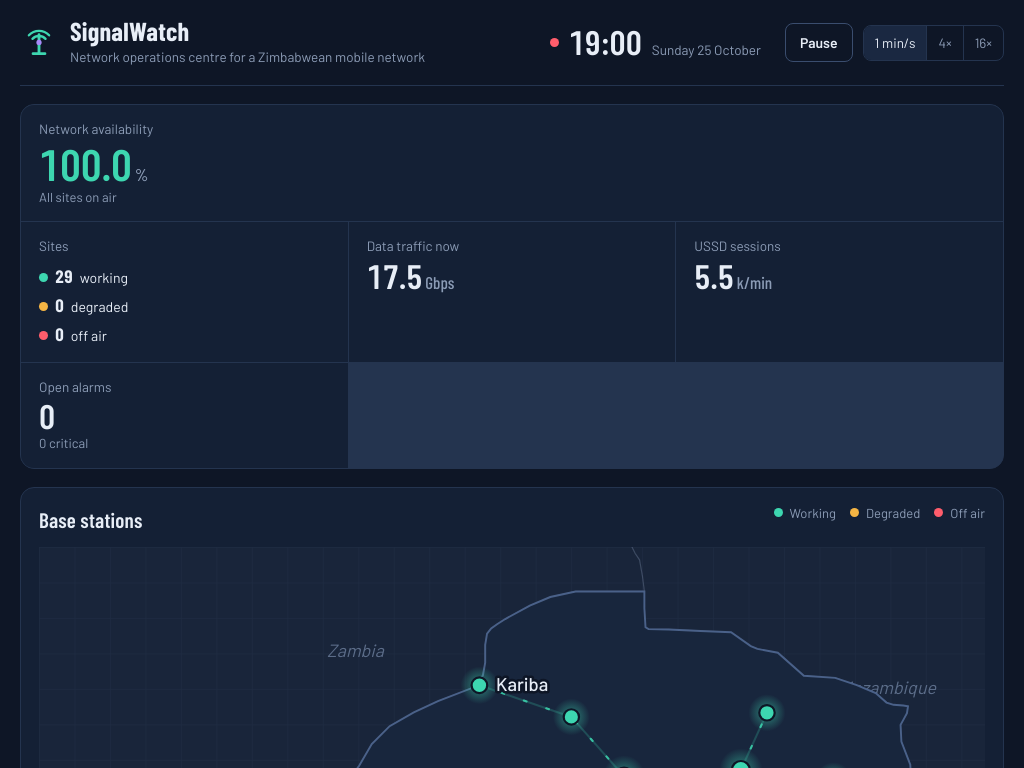
SignalWatch dashboard › lets the operator pause the live feed
This screenshot has width=1024, height=768.
Step 1. Click the button "Pause" → (819, 43), box [785, 23, 853, 62]
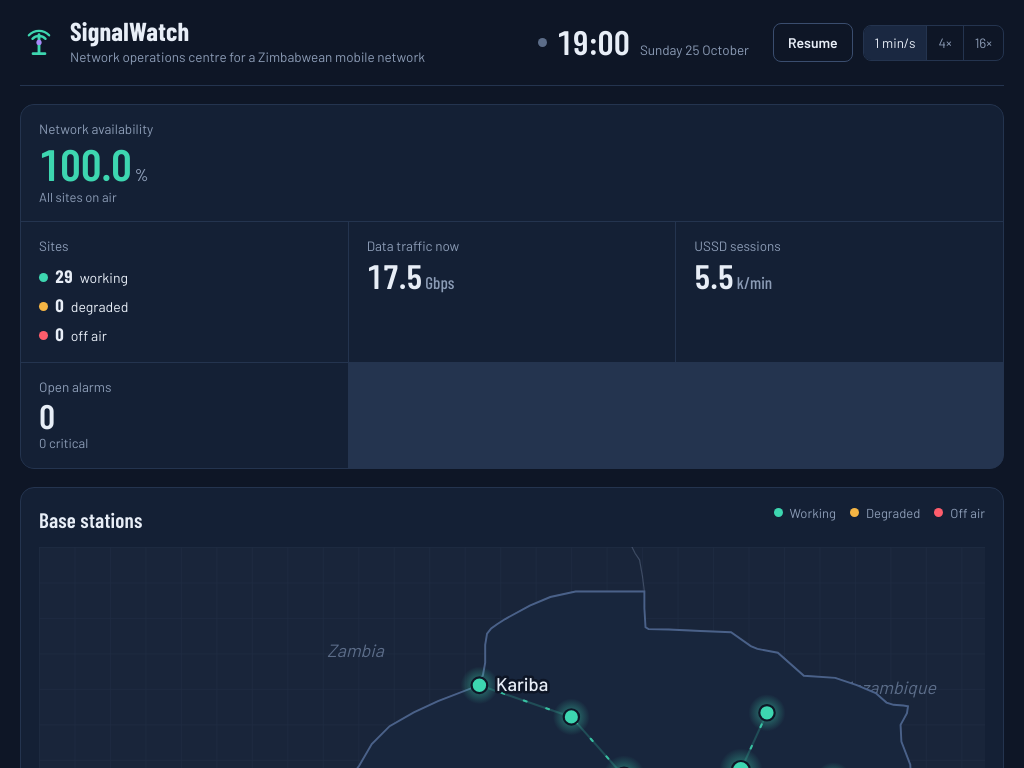
Expected: the button "Resume" is shown, [773, 23, 853, 62]
